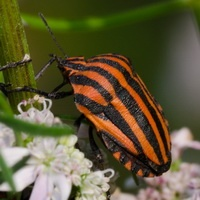insect: (43, 53, 170, 176)
